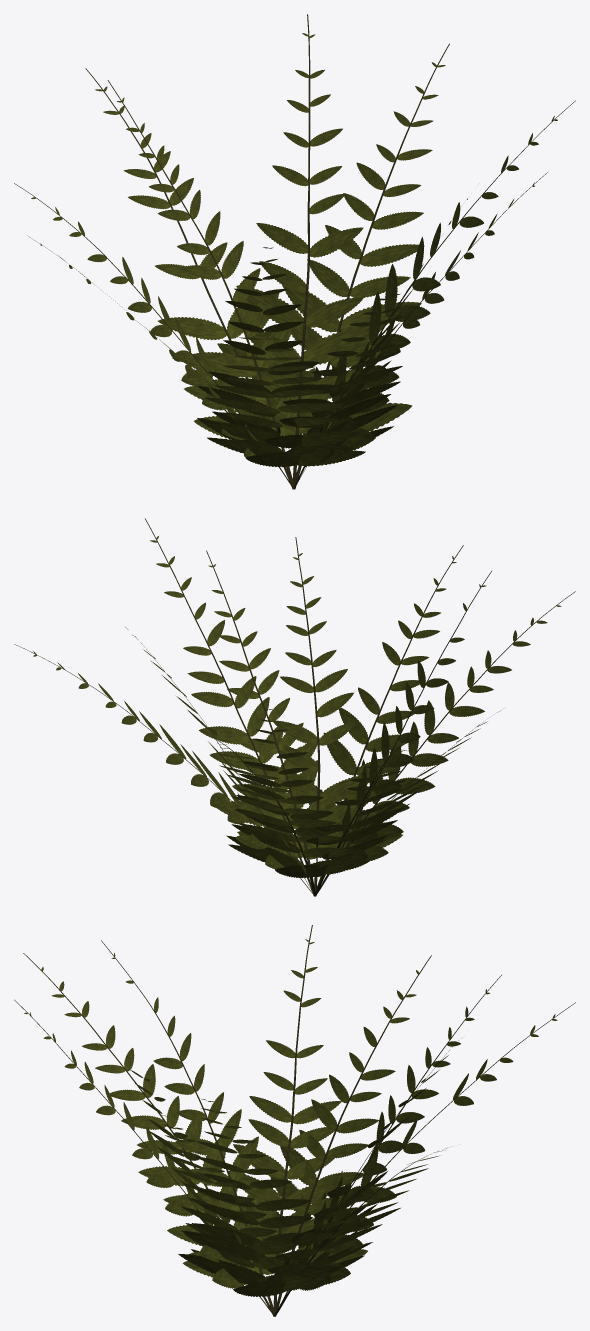
Rendered from bracken_v02_LOD1.fbx.
The picture shows the model from 3 angles, top to bottom: view 1: azimuth 30°, elevation 25°; view 2: azimuth 150°, elevation 25°; view 3: azimuth 270°, elevation 25°; orthographic projection. The views are drawn at different scales.
Visible parts, largest first — view 1: bracken_v02_LOD1; view 2: bracken_v02_LOD1; view 3: bracken_v02_LOD1.
Boxes of the visible parts, x1,y1,x2,y2 form: bracken_v02_LOD1: (14, 14, 575, 489); bracken_v02_LOD1: (14, 518, 575, 896); bracken_v02_LOD1: (14, 925, 575, 1316).
Bounding box in the file's own units: 201 × 140 × 208.
2 materials, 2 textured.
